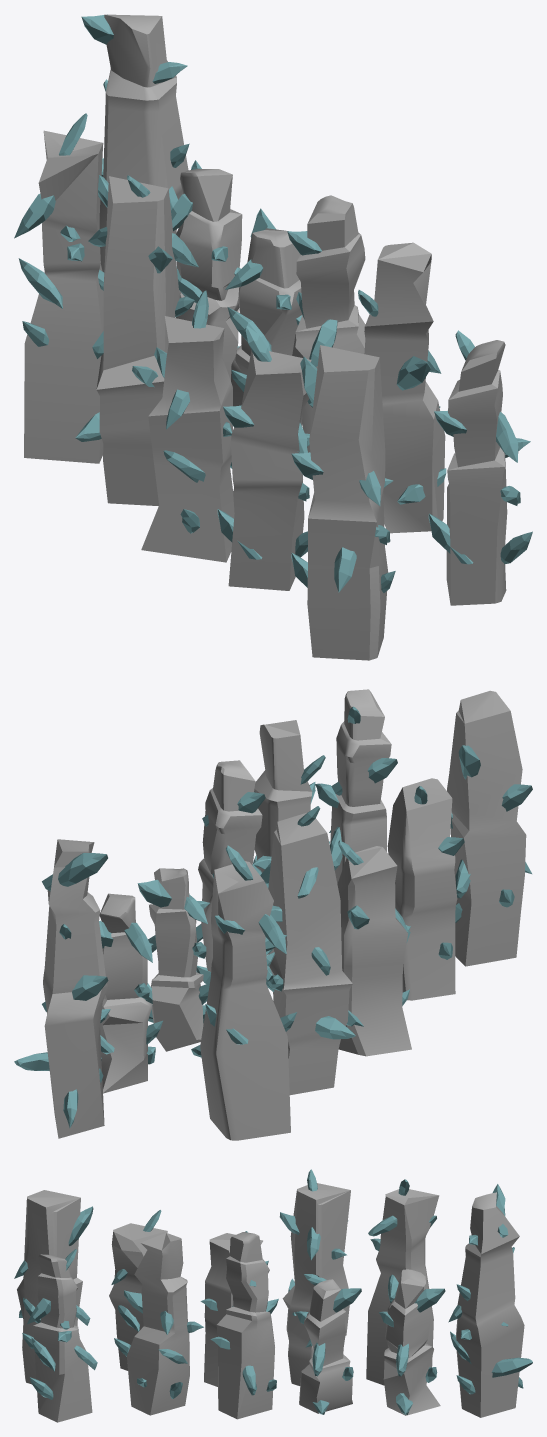
File: PilaresFinCristales.fbx
The picture shows the model from 3 angles, top to bottom: view 1: azimuth 30°, elevation 25°; view 2: azimuth 150°, elevation 25°; view 3: azimuth 270°, elevation 25°; orthographic projection. The views are drawn at different scales.
Visible parts, largest first — view 1: pCube5, pCube11, pCube9, pCube6, pCube8, pCube4, pCube3, polySurface2, pCube7, polySurface3, polySurface1, polySurface37 (+10 smaller); view 2: pCube11, pCube5, pCube9, polySurface2, pCube4, pCube6, polySurface3, polySurface1, pCube3, pCube7, pCube8, polySurface94 (+10 smaller); view 3: polySurface2, pCube8, pCube7, pCube9, pCube3, pCube11, pCube5, polySurface3, polySurface1, pCube4, pCube6, polySurface94 (+9 smaller).
Part boxes in pixels (x1,y1,x2,y2): pCube5: (307, 345, 388, 660); pCube11: (24, 130, 103, 463); pCube9: (96, 176, 179, 505); pCube6: (141, 316, 234, 562); pCube8: (364, 242, 445, 533); pCube4: (228, 350, 311, 590); pCube3: (446, 340, 507, 605); polySurface2: (99, 14, 188, 272); pCube7: (292, 195, 365, 452); polySurface3: (175, 168, 242, 380); polySurface1: (231, 228, 302, 406); polySurface37: (14, 113, 108, 346); pCube11: (200, 861, 290, 1140); pCube5: (447, 690, 526, 966); pCube9: (268, 812, 352, 1095); polySurface2: (43, 839, 107, 1138); pCube4: (387, 778, 457, 1000); pCube6: (337, 846, 411, 1056); polySurface3: (99, 893, 152, 1093); polySurface1: (149, 868, 203, 1051); pCube3: (330, 689, 391, 883); pCube7: (198, 760, 262, 971); pCube8: (254, 720, 312, 955); polySurface94: (14, 853, 110, 1128); polySurface2: (456, 1192, 524, 1417); pCube8: (127, 1232, 189, 1415); pCube7: (216, 1232, 274, 1419); pCube9: (282, 1183, 350, 1385); pCube3: (33, 1254, 92, 1422); pCube11: (366, 1189, 439, 1385); pCube5: (17, 1190, 82, 1384); polySurface3: (383, 1269, 440, 1415); polySurface1: (299, 1279, 352, 1413); pCube4: (109, 1223, 167, 1370); pCube6: (204, 1233, 262, 1386); polySurface94: (448, 1184, 532, 1394).
Size of the model in its own units: 133 by 176 by 368.
